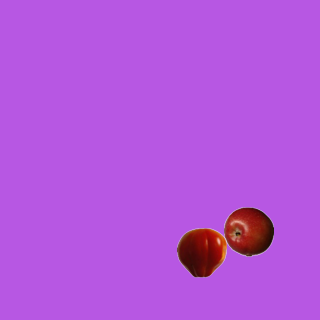Apple Braeburn: (223, 206, 273, 256)
Tomato 1: (176, 227, 226, 277)
